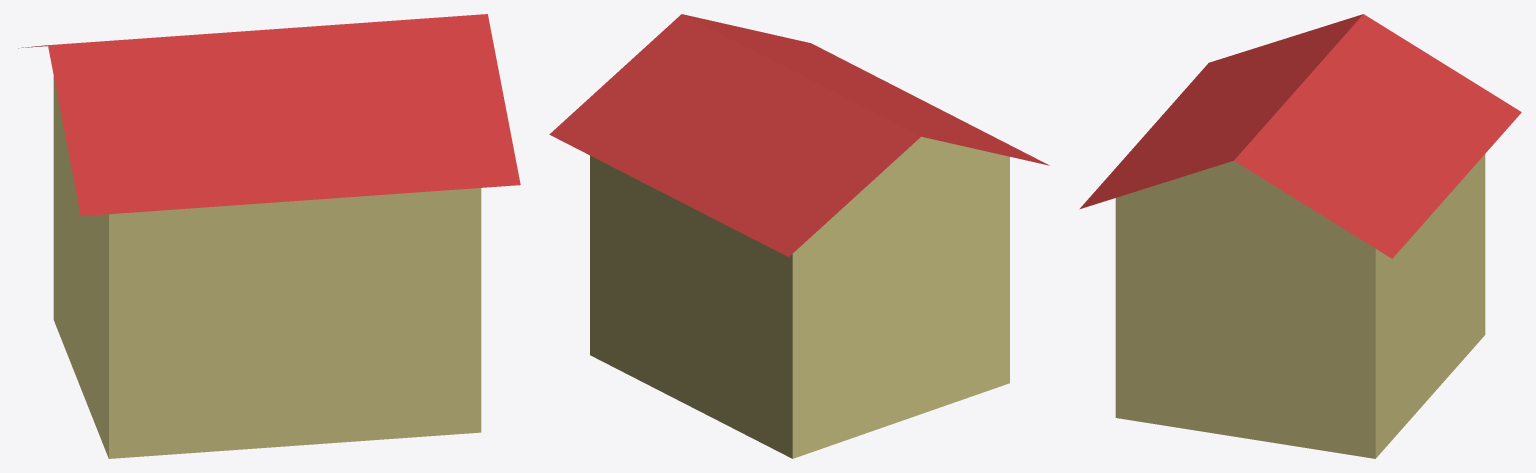
The picture shows the model from 3 angles, left to right: view 1: azimuth 30°, elevation 25°; view 2: azimuth 150°, elevation 25°; view 3: azimuth 270°, elevation 25°; orthographic projection. The views are drawn at different scales.
Size of the model in its own units: 12.26 by 11.69 by 8.41.
